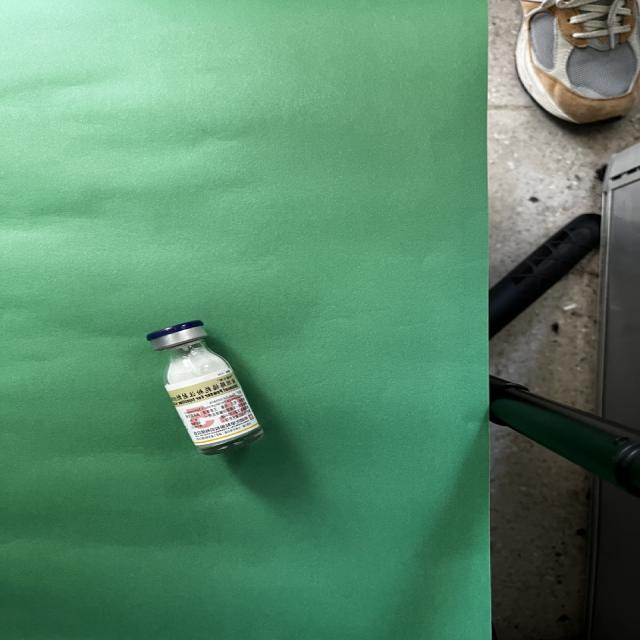Vials: (147, 320, 263, 454)
